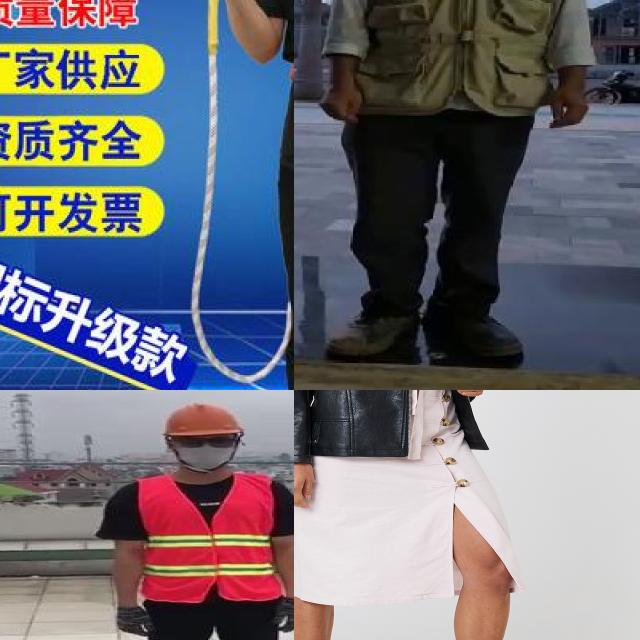face_mask: (170, 433, 237, 470)
glasses: (167, 433, 240, 451)
hand_glove: (108, 606, 153, 639), (275, 599, 294, 633)
hand_noglove: (538, 72, 597, 138), (311, 71, 368, 127)
head_helmet: (156, 402, 249, 438)
person: (311, 0, 598, 361), (92, 397, 294, 640)
shoes: (426, 306, 536, 358), (324, 305, 420, 357)
vest: (322, 0, 595, 122), (138, 474, 290, 603)
